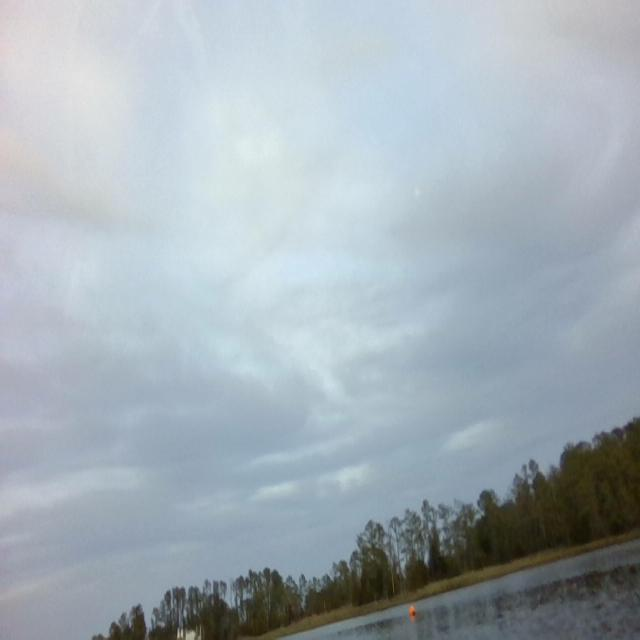Buoy: (408, 599, 420, 621)
